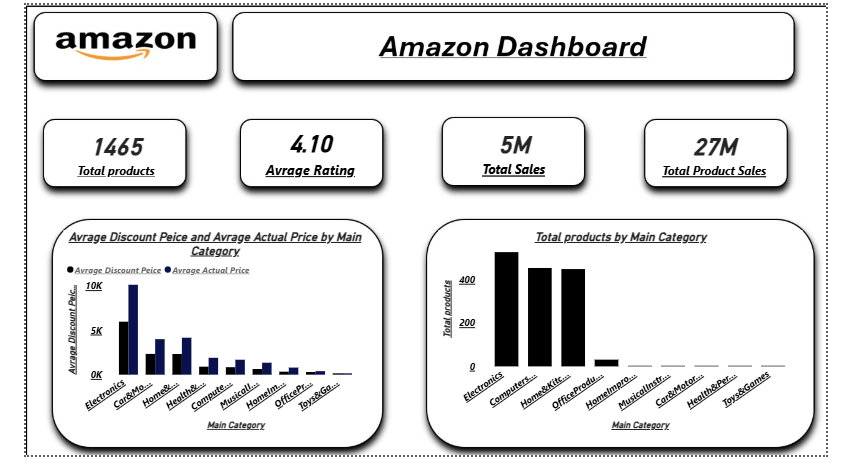

Layout of this report page (visuals, bound fields, positions):
{"tool":"powerbi","page":{"name":"Summary ","canvas":[1280,720],"ordinal":0},"visuals":[{"type":"image","box":[0,0,1280.3,720.4],"z":0},{"type":"card","fields":{"Values":["amazon.Total products"]},"box":[60.4,192.1,168.8,87.8],"z":1000},{"type":"card","fields":{"Values":["amazon.Avrage Rating"]},"box":[367.8,185.2,174.3,94.7],"z":2000},{"type":"card","fields":{"Values":["amazon.Total Product Sales"]},"box":[1005.8,186.6,190.7,98.8],"z":3000},{"type":"clusteredColumnChart","fields":{"Category":["amazon.Main Category"],"Y":["amazon.Total products"]},"box":[660,360.9,582,325.2],"z":4000},{"type":"clusteredColumnChart","fields":{"Category":["amazon.Main Category"],"Y":["amazon.Avrage Discount Peice","amazon.Avrage Actual Price"]},"box":[60.4,360.9,484.4,325.2],"z":5000},{"type":"card","fields":{"Values":["amazon.Total Sales"]},"box":[695.7,183.9,168.8,98.8],"z":6000}]}

Visuals, with their boxes in screenshot pixels (x1, y1, x2, y2), scaled from the page's 1280x720 canvas onto the 859x475 screenshot:
image: select_region(0, 0, 858, 474)
card - amazon.Total products: select_region(41, 127, 154, 185)
card - amazon.Avrage Rating: select_region(247, 122, 364, 185)
card - amazon.Total Product Sales: select_region(675, 123, 803, 188)
clusteredColumnChart - amazon.Main Category x amazon.Total products: select_region(443, 238, 833, 453)
clusteredColumnChart - amazon.Main Category x amazon.Avrage Discount Peice: select_region(41, 238, 366, 453)
card - amazon.Total Sales: select_region(467, 121, 580, 187)
